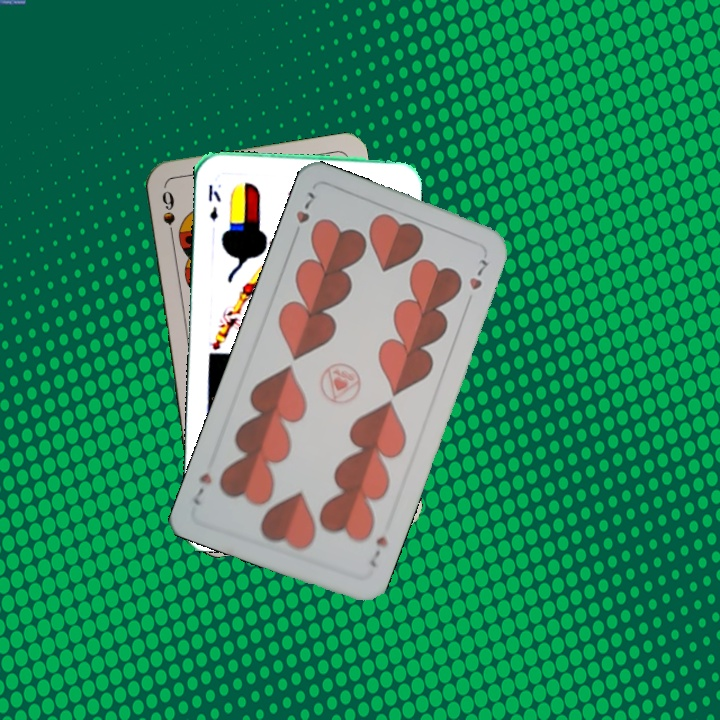EK: (204, 181, 223, 224)
H7: (291, 187, 318, 226), (366, 532, 391, 570)
S9: (157, 186, 178, 244)
